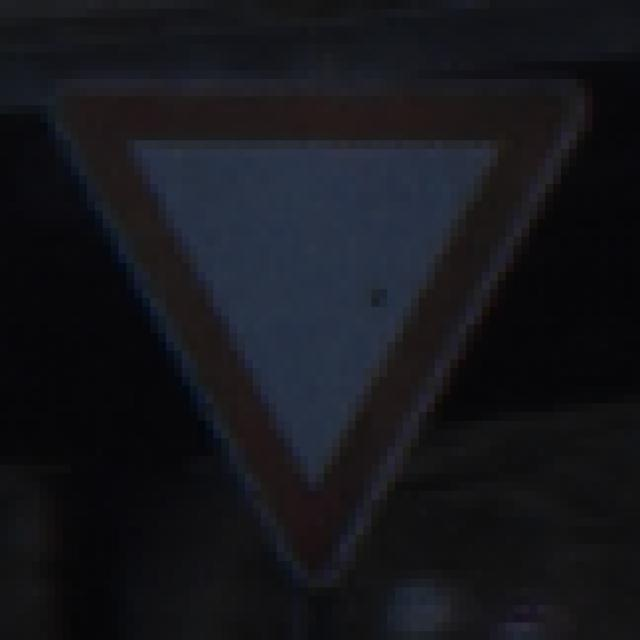Give Way: (56, 63, 586, 589)
